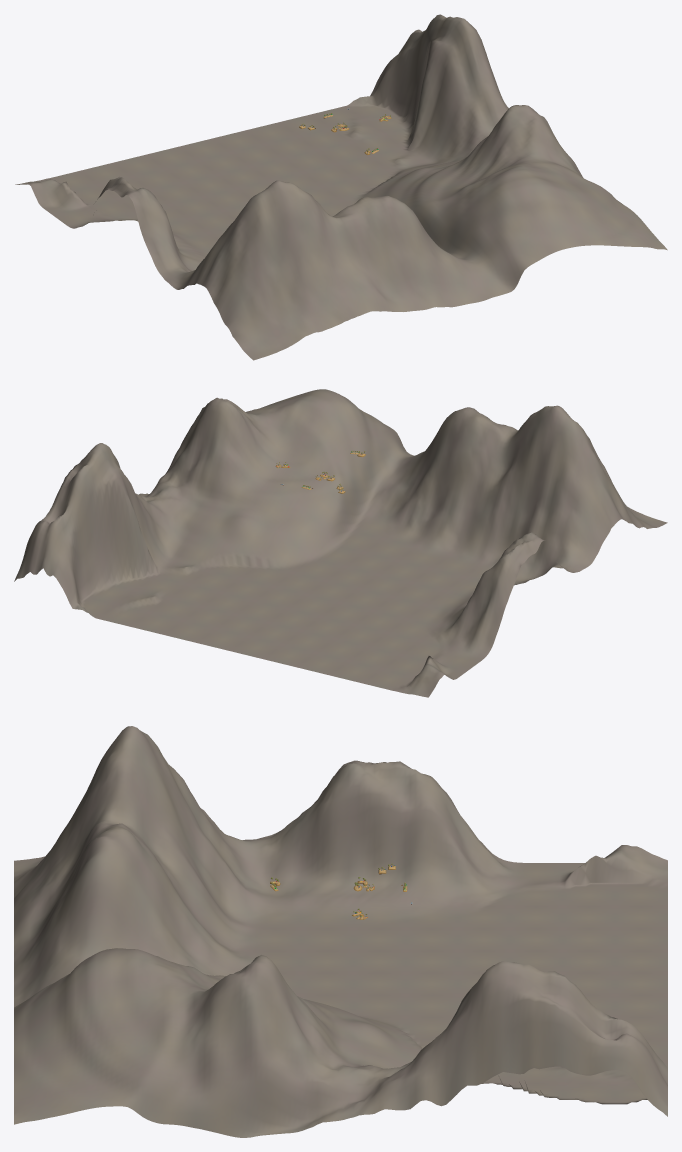
3 renders of one model, top to bottom at view 1: azimuth 30°, elevation 25°; view 2: azimuth 150°, elevation 25°; view 3: azimuth 270°, elevation 25°, orthographic. The views are drawn at different scales.
Parts seen in each view (by area): view 1: Terrain; view 2: Terrain; view 3: Terrain.
Boxes of the visible parts, left/top/right/bottom form: Terrain: left=15, top=14, right=667, bottom=360; Terrain: left=14, top=389, right=667, bottom=697; Terrain: left=14, top=726, right=667, bottom=1137.
Bounding box in the file's own units: 1000 × 398 × 1000.
9 materials, 8 textured.
